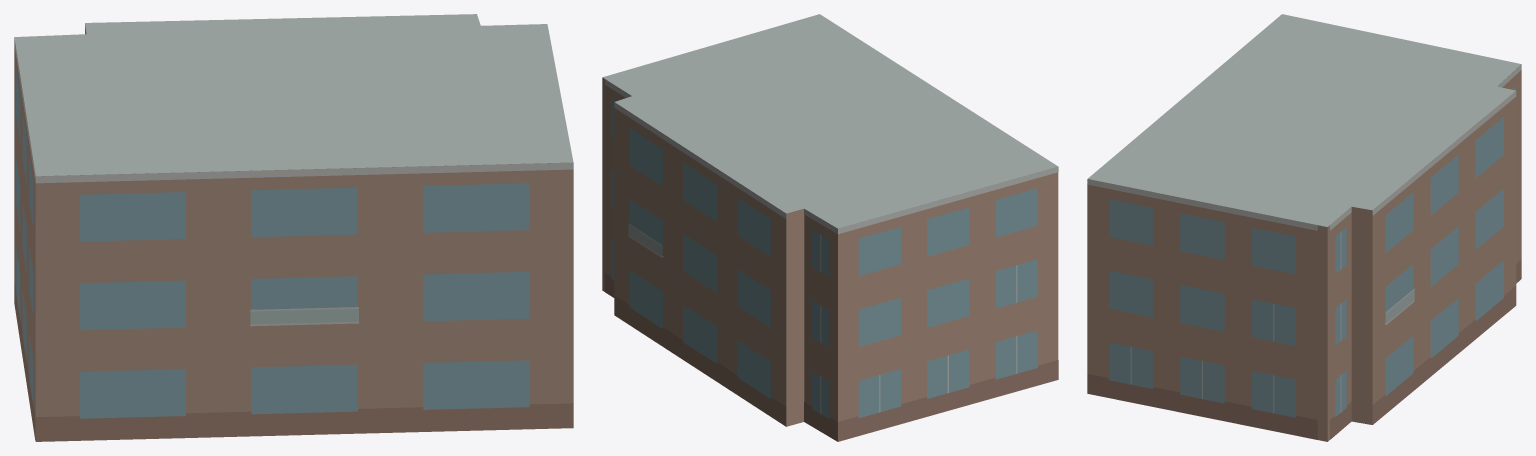
File: survey-upis-32682334.glb
3 renders of one model, left to right at view 1: azimuth 30°, elevation 25°; view 2: azimuth 150°, elevation 25°; view 3: azimuth 270°, elevation 25°, orthographic. The views are drawn at different scales.
Parts seen in each view (by area): view 1: survey-upis-32682334.tmp; view 2: survey-upis-32682334.tmp; view 3: survey-upis-32682334.tmp.
Boxes of the visible parts, box(x1,y1,x2,y2) form: survey-upis-32682334.tmp: box(14, 14, 573, 441); survey-upis-32682334.tmp: box(602, 14, 1058, 441); survey-upis-32682334.tmp: box(1087, 14, 1521, 441).
Bounding box in the file's own units: 19.47 × 9.15 × 16.76.
